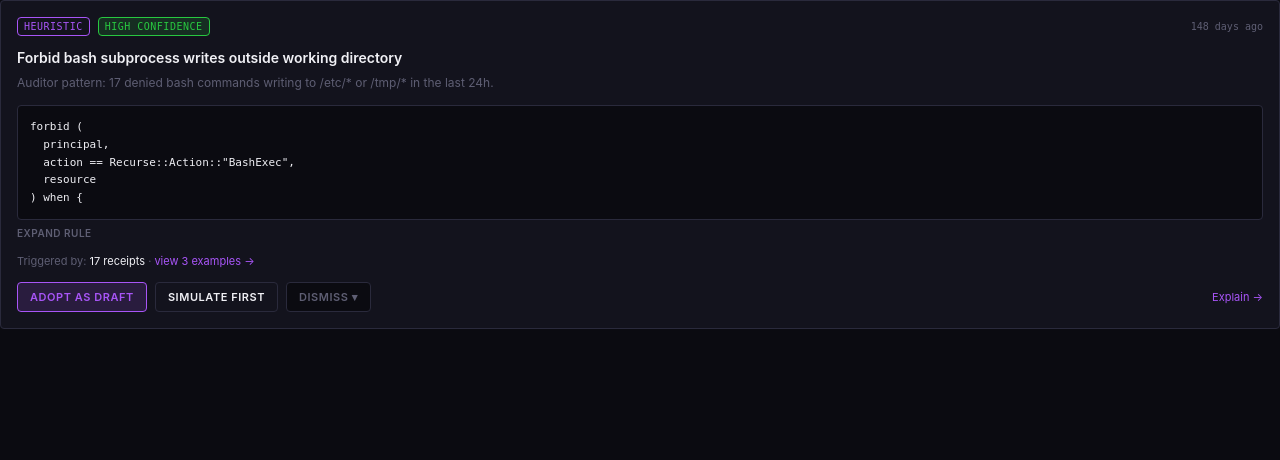
it: SuggestionCard dismiss dropdown › Escape closes the dismiss menu (F007 — keyboard a11y)
Click the button with test id "suggestion-dismiss". click: point(328, 297)
box: [286,282,371,312]
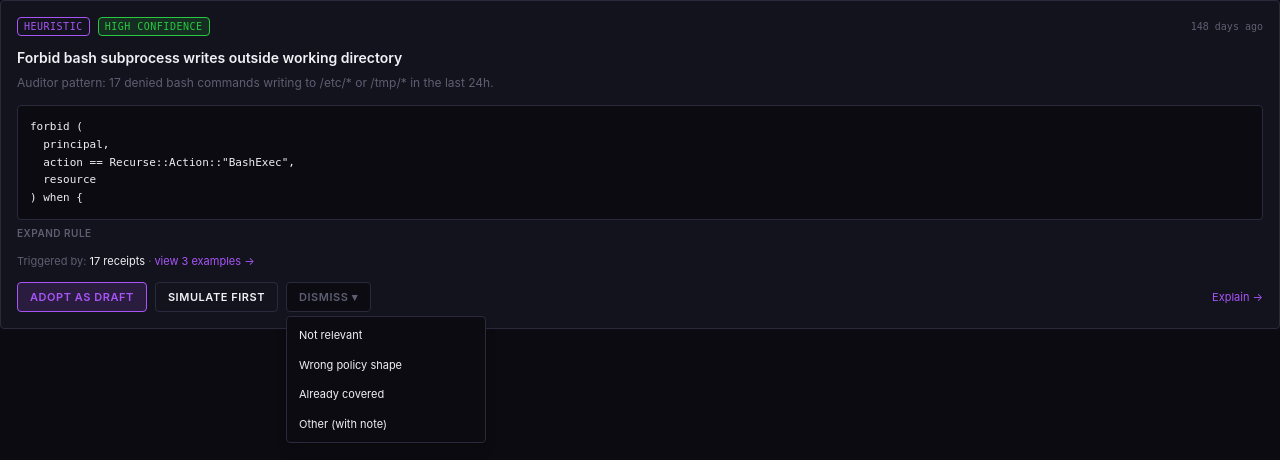
Expected: the menu with test id "suggestion-dismiss-menu" is shown, [286,316,486,443]
Press Escape
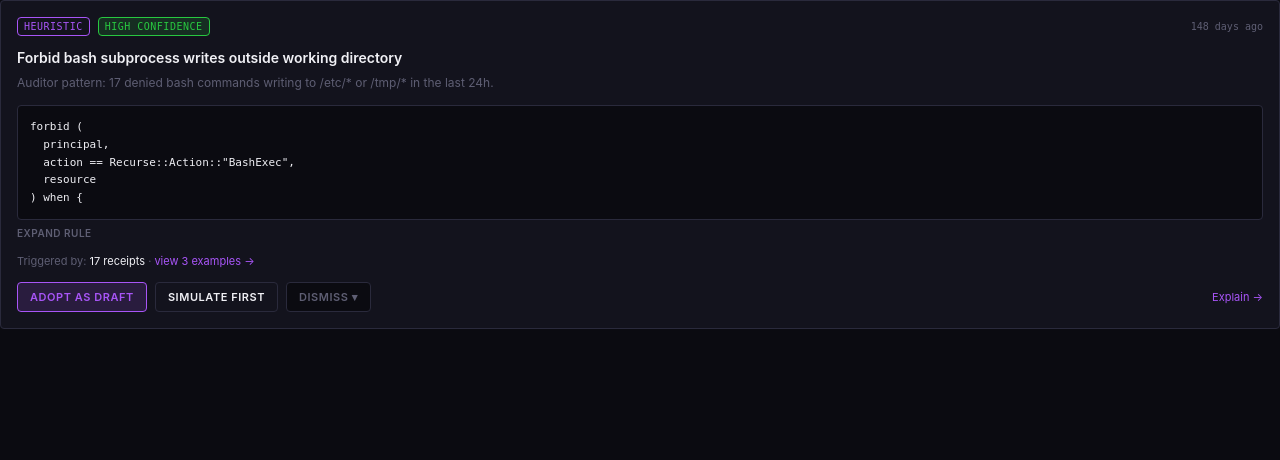
Expected: the menu with test id "suggestion-dismiss-menu" is gone
